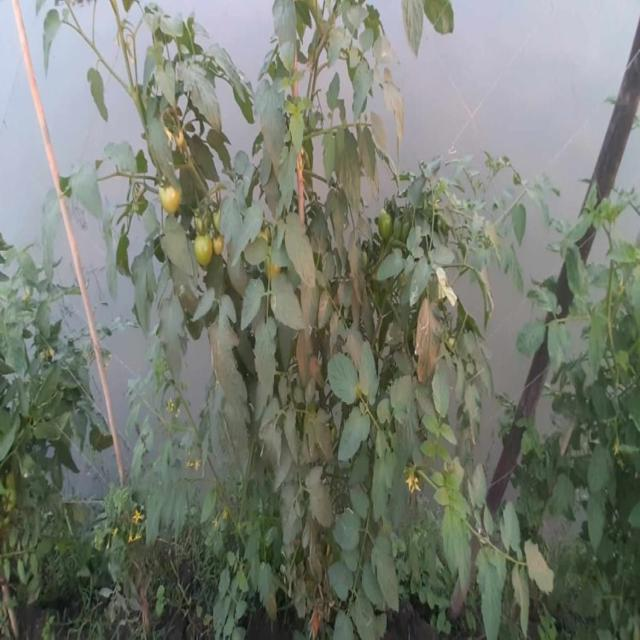tomato: (155, 181, 190, 224), (372, 205, 401, 239), (192, 231, 213, 272), (259, 260, 285, 287), (213, 235, 226, 257)
